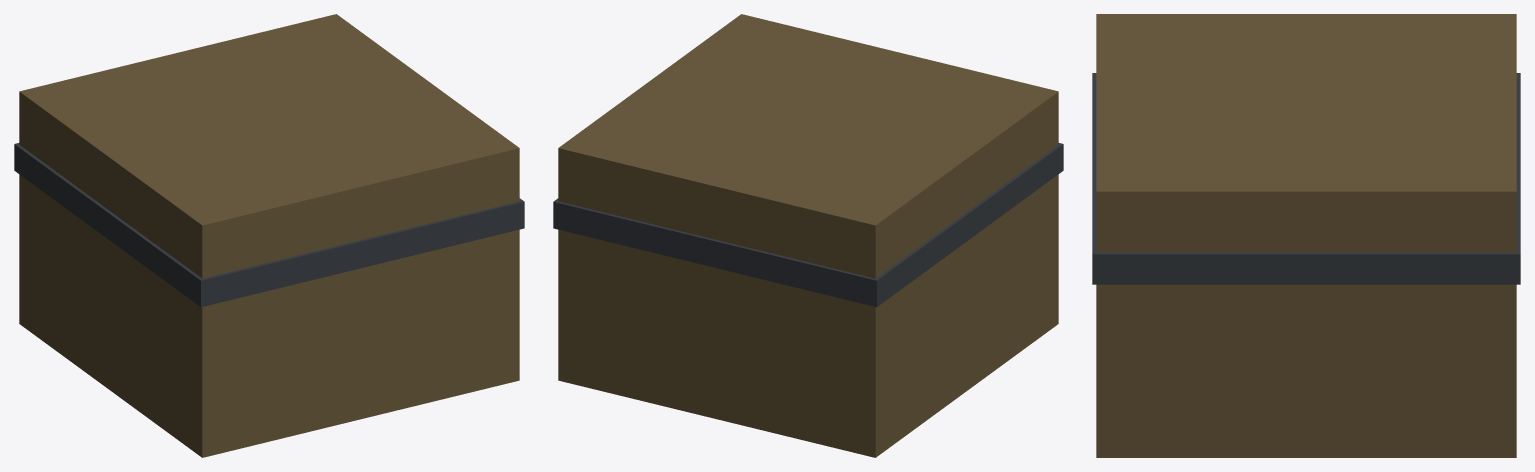
Rendered from caja.glb.
3 views of the same model, side by side, from view 1: azimuth 30°, elevation 25°; view 2: azimuth 150°, elevation 25°; view 3: azimuth 270°, elevation 25° (orthographic). The views are drawn at different scales.
Visible parts, largest first — view 1: Mesh_Cuerpo, Mesh_Banda; view 2: Mesh_Cuerpo, Mesh_Banda; view 3: Mesh_Cuerpo, Mesh_Banda.
Boxes of the visible parts, <box> form: Mesh_Cuerpo: <box>19,14,519,457</box>; Mesh_Banda: <box>14,143,524,307</box>; Mesh_Cuerpo: <box>558,14,1058,457</box>; Mesh_Banda: <box>553,143,1063,307</box>; Mesh_Cuerpo: <box>1096,14,1516,457</box>; Mesh_Banda: <box>1092,73,1520,284</box>.
Size of the model in its own units: 0.612 by 0.42 by 0.612.
